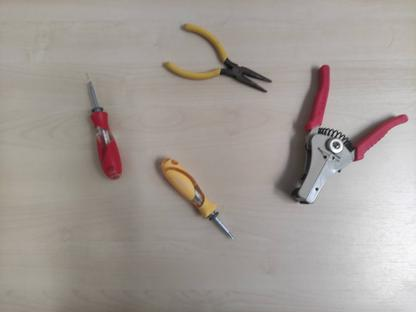Screwdriver: (155, 154, 237, 241), (80, 69, 124, 182)
